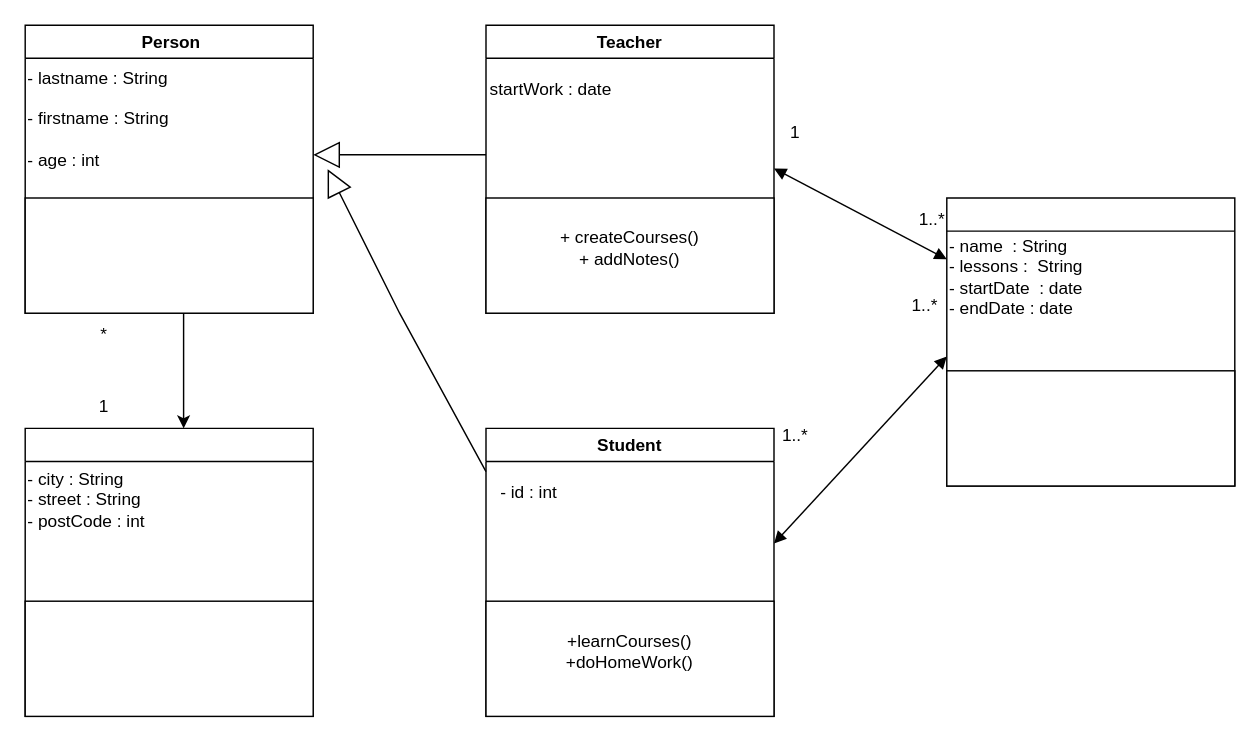
Image size: 1260x742. Some labels were removed from this diagram. Each missing label, with the box of its shape:
Address: (24, 427, 313, 716)
Course: (945, 197, 1235, 486)
